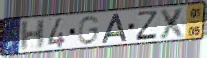4: (47, 17, 67, 50)
A: (101, 13, 129, 45)
G: (76, 14, 101, 46)
H: (19, 18, 48, 52)
X: (158, 6, 187, 40)
Z: (135, 11, 160, 42)
